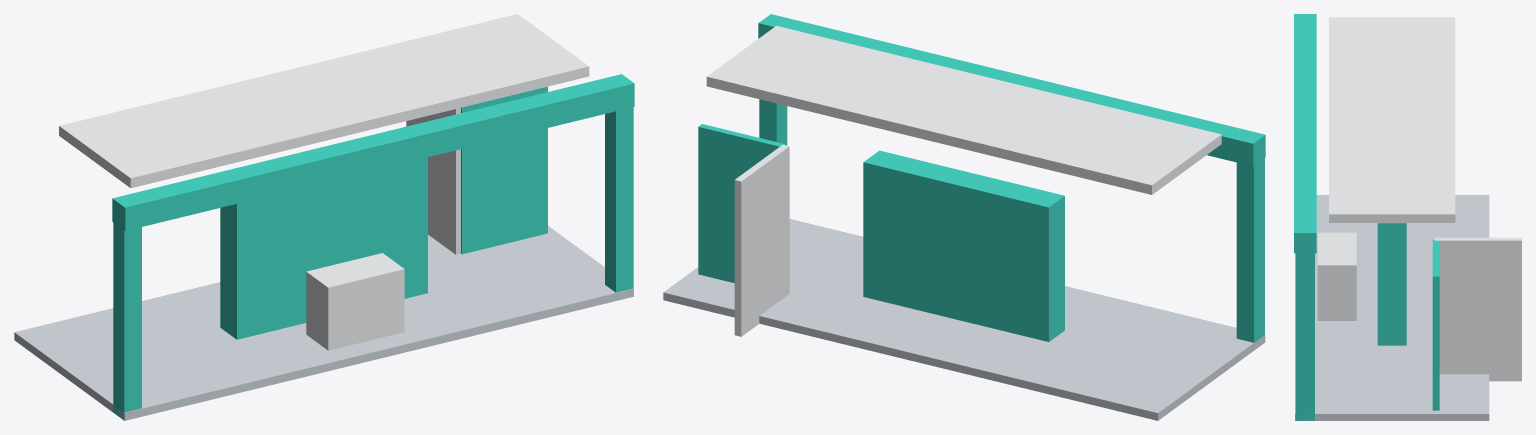
3 views of the same model, side by side, from view 1: azimuth 30°, elevation 25°; view 2: azimuth 150°, elevation 25°; view 3: azimuth 270°, elevation 25° (orthographic). The views are drawn at different scales.
Parts seen in each view (by area): view 1: Exhibition Booth Concept; view 2: Exhibition Booth Concept; view 3: Exhibition Booth Concept.
Part boxes in pixels (x1,y1,x2,y2): Exhibition Booth Concept: [14, 14, 634, 420]; Exhibition Booth Concept: [663, 14, 1265, 420]; Exhibition Booth Concept: [1294, 14, 1521, 420].
Size of the model in its own units: 8 by 3.34 by 3.52.
